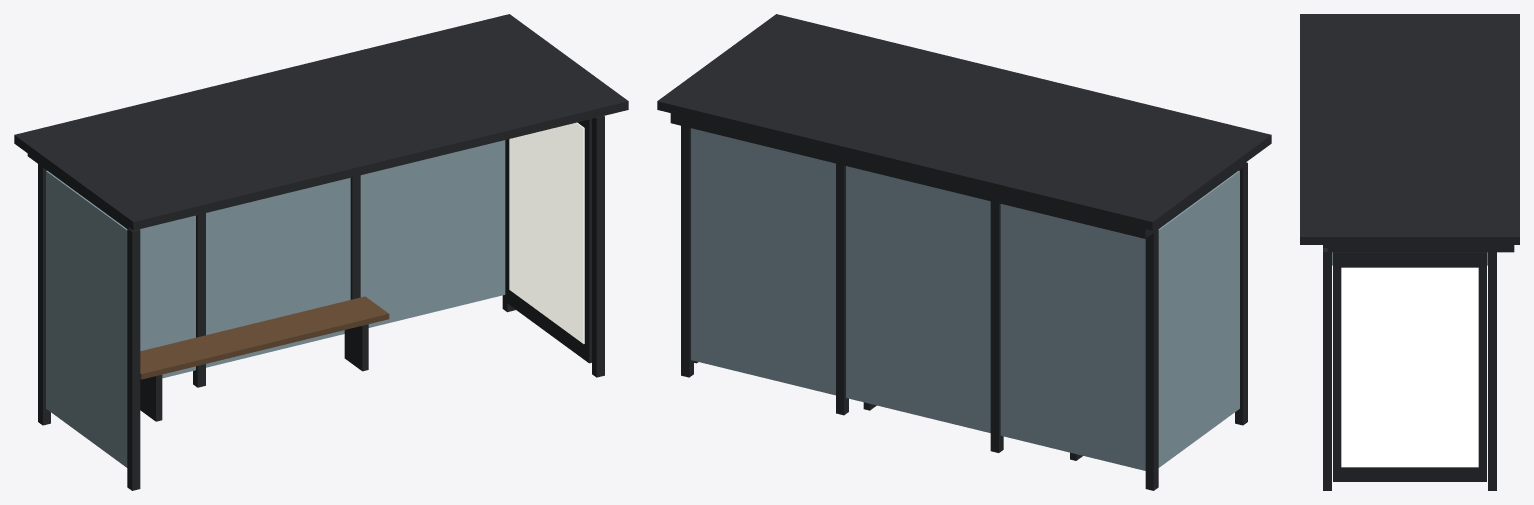
The model's file is cta_bus_shelter.glb.
3 views of the same model, side by side, from view 1: azimuth 30°, elevation 25°; view 2: azimuth 150°, elevation 25°; view 3: azimuth 270°, elevation 25° (orthographic). The views are drawn at different scales.
Parts seen in each view (by area): view 1: cta_bus_shelter; view 2: cta_bus_shelter; view 3: cta_bus_shelter.
Boxes of the visible parts, x1,y1,x2,y2 form: cta_bus_shelter: (14,14,628,490); cta_bus_shelter: (657,14,1271,490); cta_bus_shelter: (1300,14,1519,490).
Size of the model in its own units: 4.8 by 2.6 by 2.
1 material, 1 textured.
